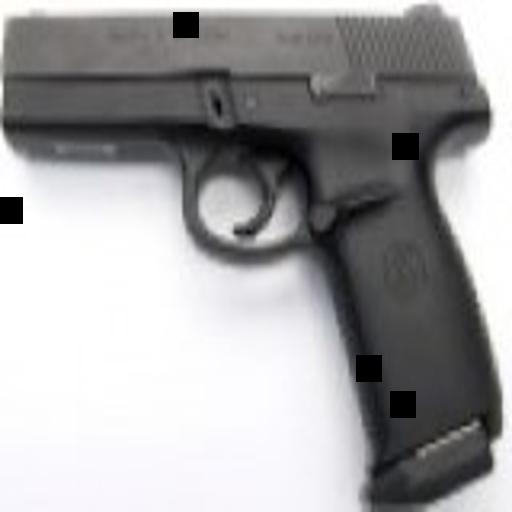Handgun: (2, 3, 501, 511)
